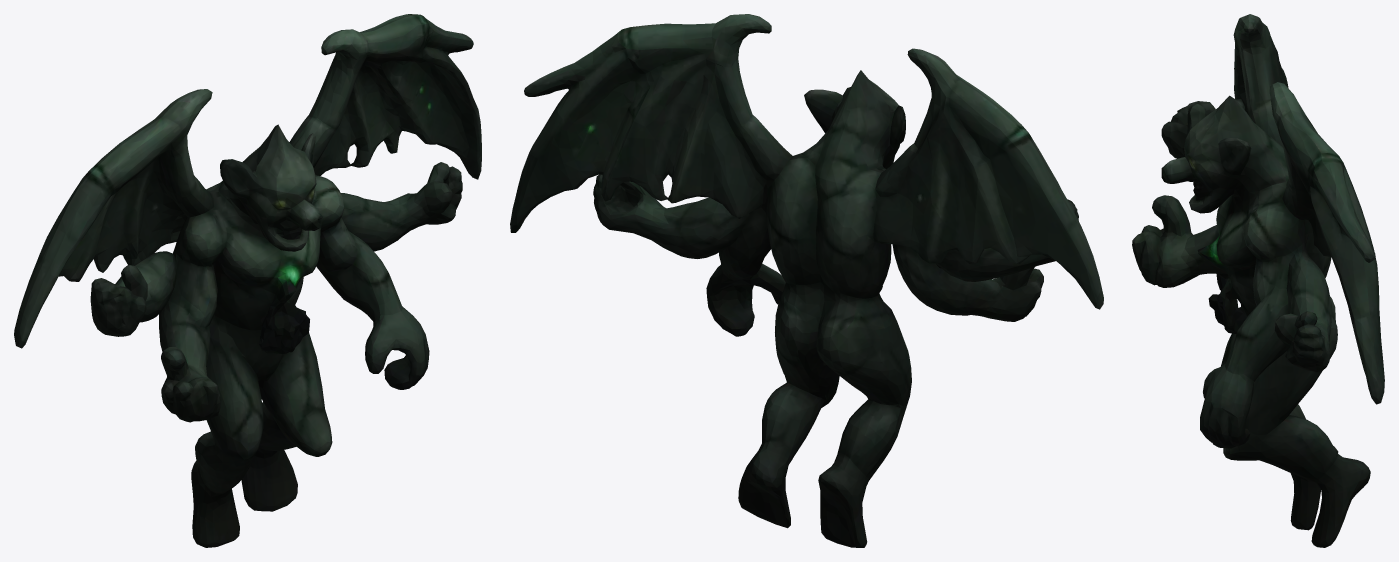
Rendered from gargoyle.glb.
3 views of the same model, side by side, from view 1: azimuth 30°, elevation 25°; view 2: azimuth 150°, elevation 25°; view 3: azimuth 270°, elevation 25° (orthographic).
Visible parts, largest first — view 1: world; view 2: world; view 3: world.
Part boxes in pixels (x1,y1,x2,y2): world: (14,14,481,547); world: (510,14,1103,547); world: (1132,14,1384,547).
Size of the model in its own units: 0.9995 by 0.8933 by 0.4162.
Materials: 1 (1 with a texture image).
